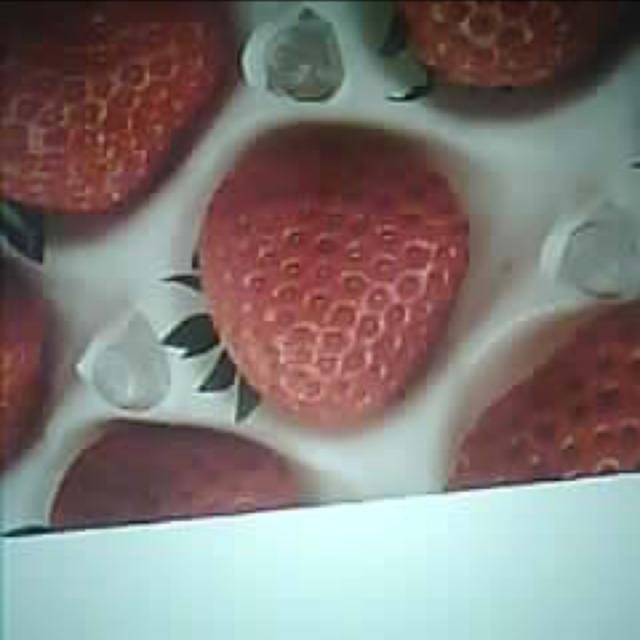strawberry: (203, 146, 470, 424)
